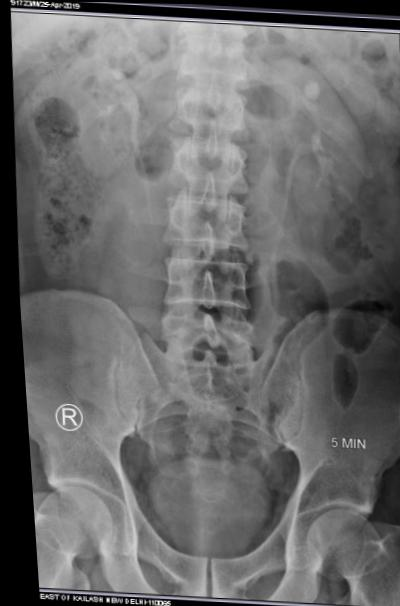bladder: (122, 445, 280, 564)
left kidney: (248, 44, 376, 226)
vertebrae: (163, 77, 252, 142)
